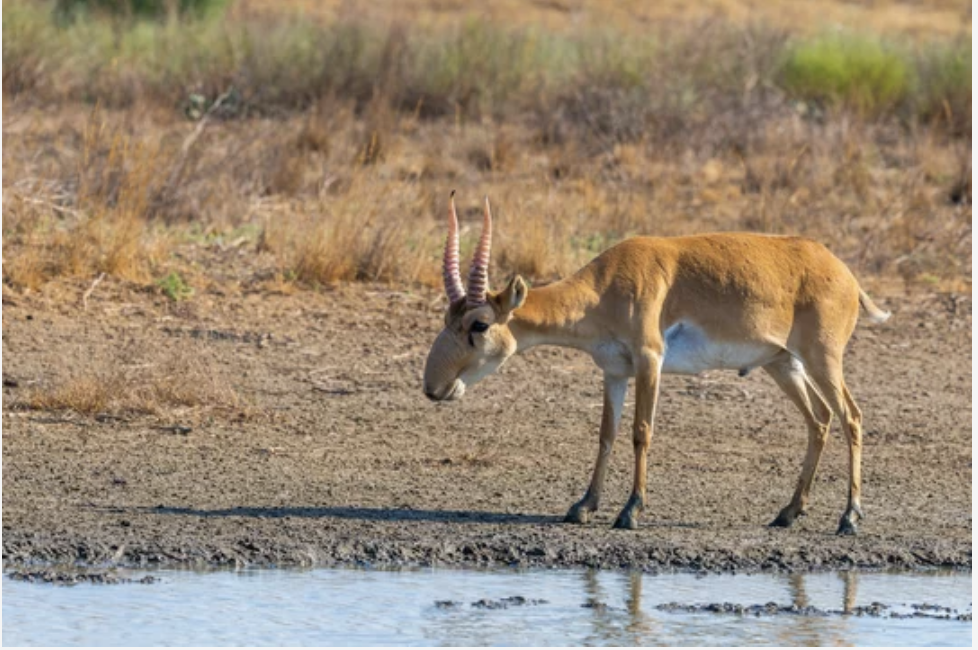saiga: (405, 184, 902, 533)
